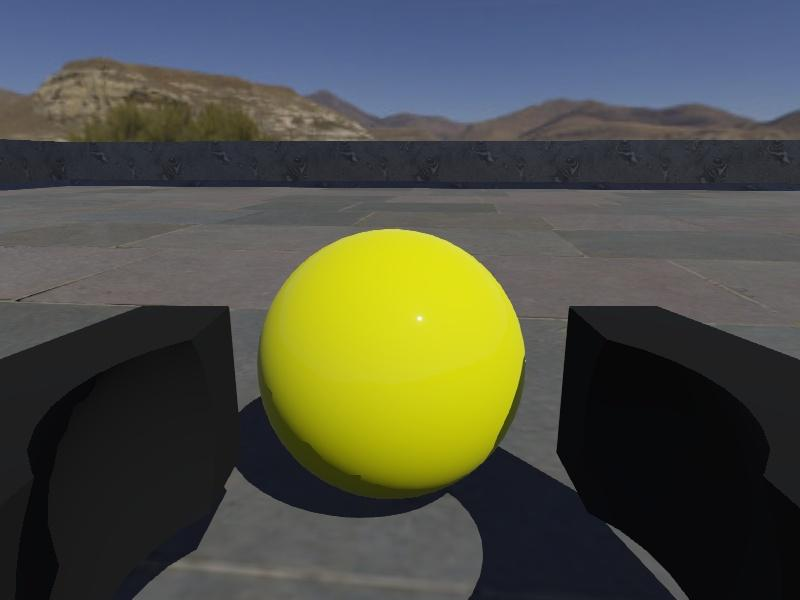yellow ball: (256, 228, 526, 501)
